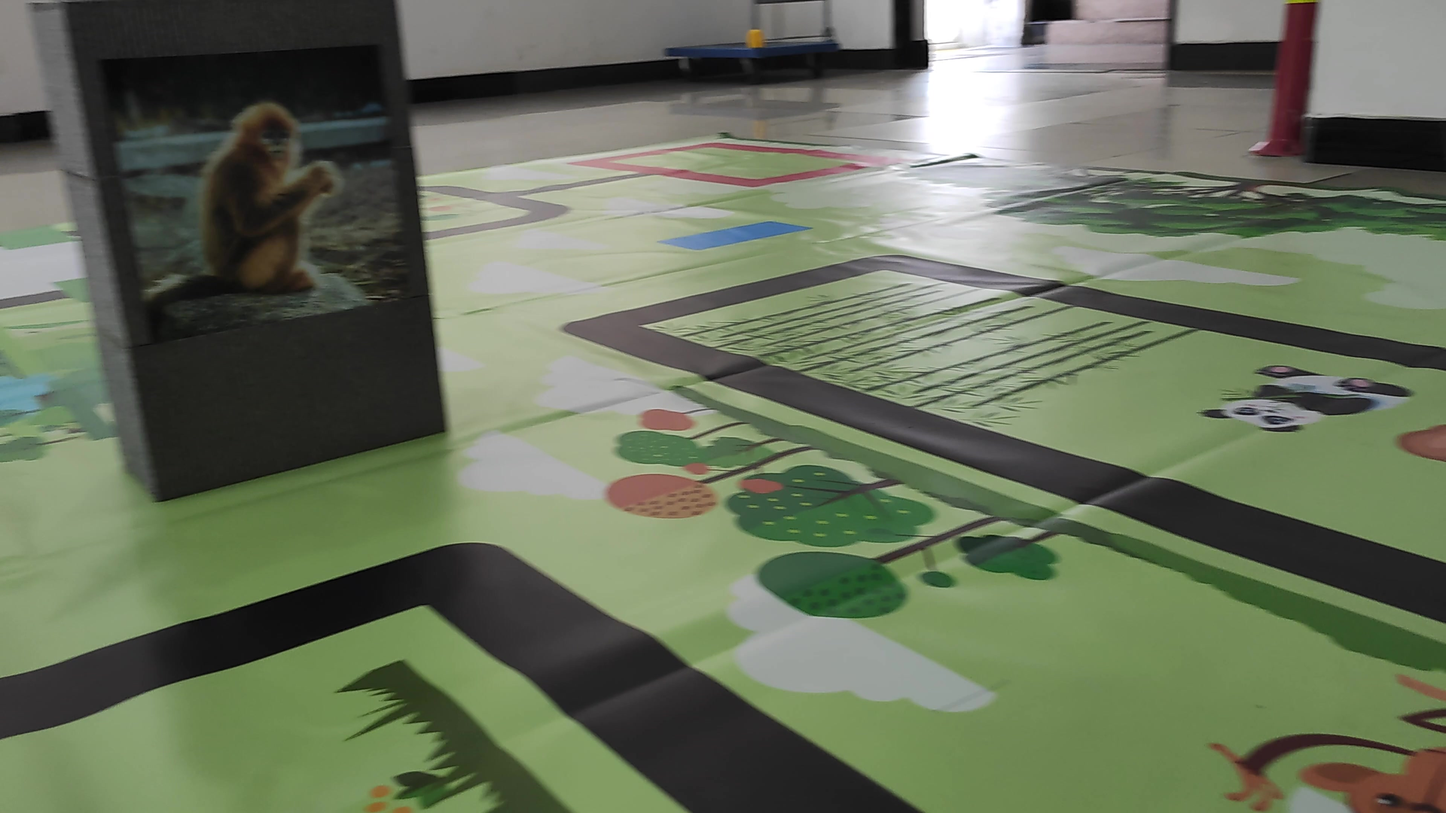monkey: (175, 89, 364, 312)
